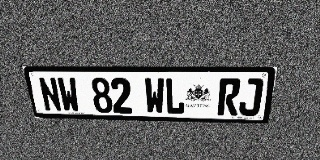2: (110, 77, 132, 113)
8: (90, 77, 113, 113)
J: (238, 78, 264, 116)
L: (165, 78, 185, 114)
N: (37, 77, 63, 112)
R: (217, 78, 241, 116)
W: (56, 77, 81, 112), (144, 78, 165, 114)
